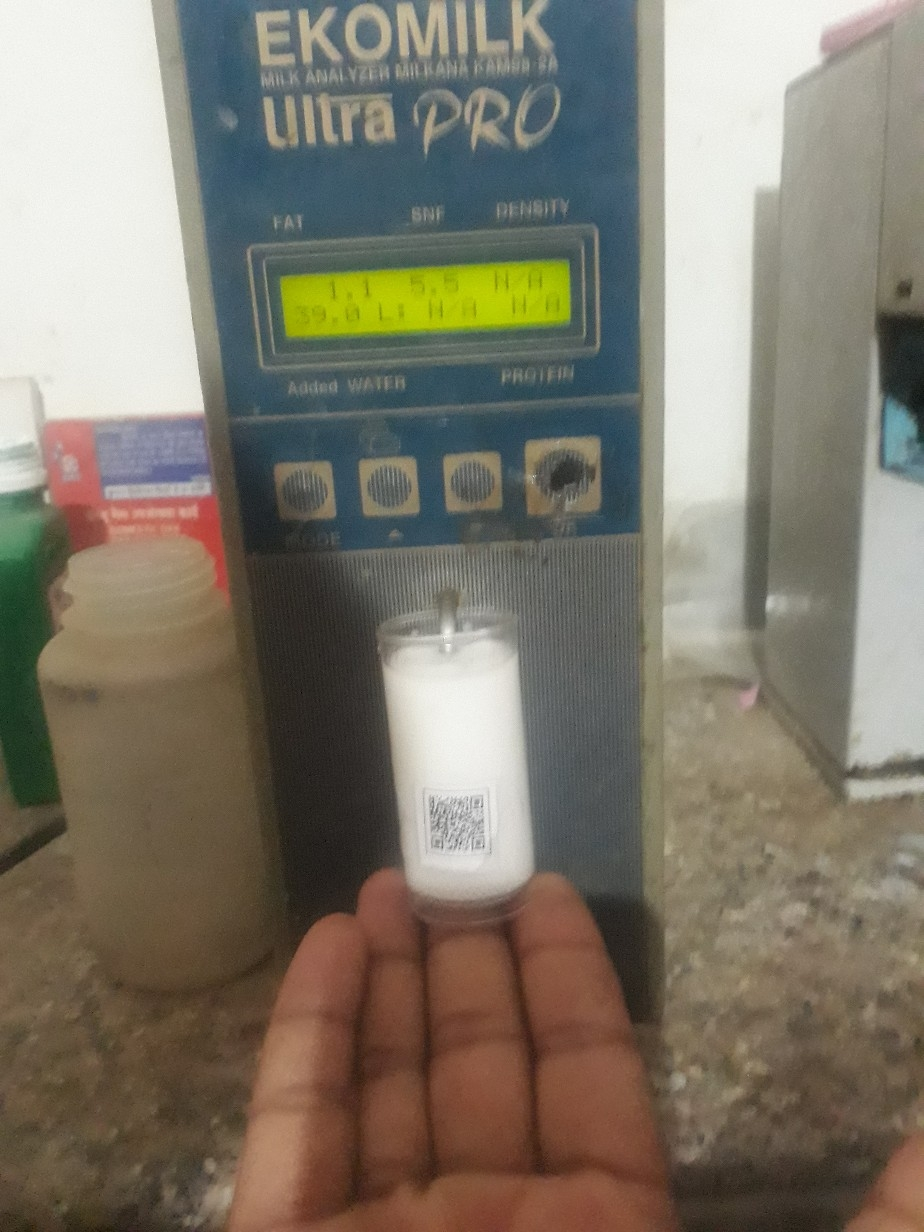lcd: (269, 253, 584, 346)
qr: (412, 785, 510, 868)
